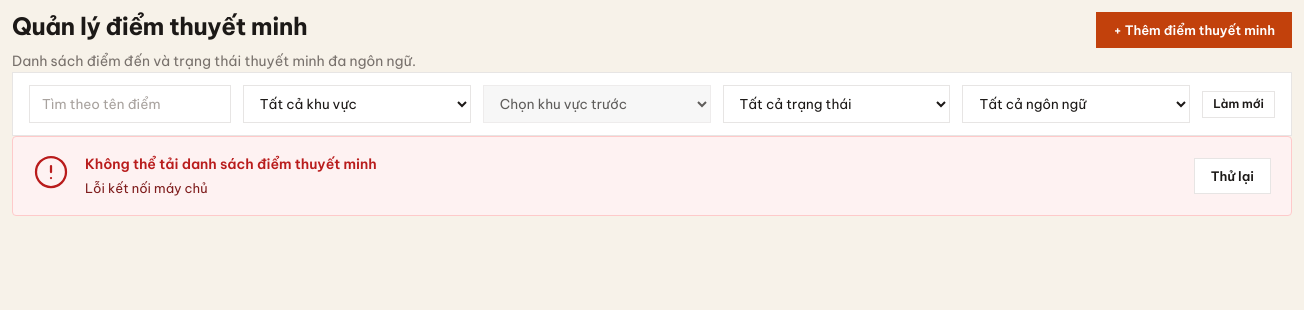
PoiListPage › hiển thị ErrorState kèm nút Thử lại và tải lại thành công
Expected: the message shows "Không thể tải danh sách điểm thuyết minh", [85,156,377,174]
Click the button "Thử lại".
click(1232, 176)  # box [1194,158,1271,194]
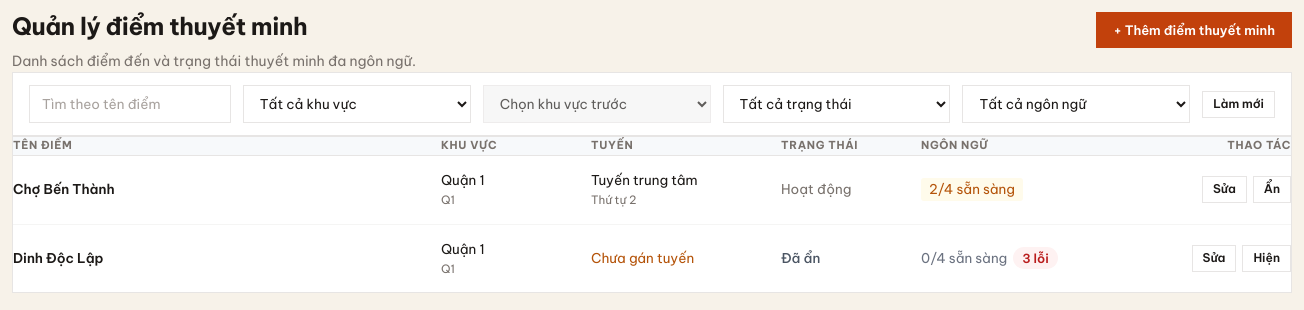
Result: the link "Chợ Bến Thành" is shown at [13,180,114,198]
